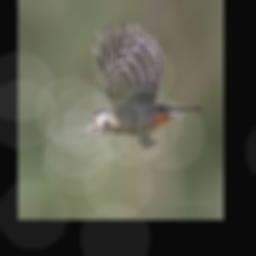Woodpecker: (76, 22, 200, 147)
